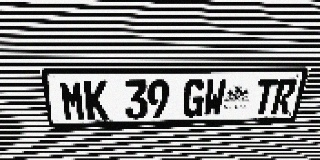3: (125, 80, 147, 119)
9: (147, 79, 170, 118)
G: (182, 79, 206, 117)
K: (83, 80, 109, 120)
M: (59, 80, 86, 121)
R: (270, 78, 298, 115)
T: (252, 78, 279, 115)
W: (202, 79, 227, 117)
